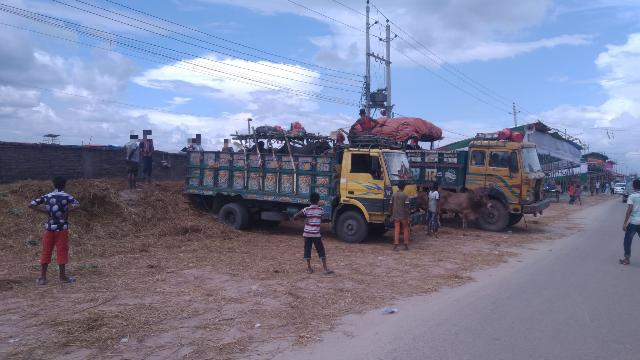car: (613, 174, 630, 197)
truck: (177, 142, 416, 240), (404, 135, 546, 234)
